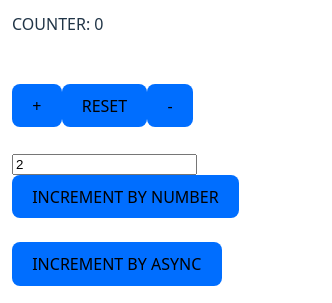
Scenario: Counter Component › resets the counter on RESET button click
This screenshot has width=332, height=303.
Click the button "+" at (37, 106), box [12,84,62,127]
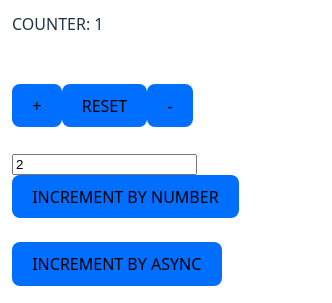
Click the button "RESET" at (104, 106), box [62,84,147,127]
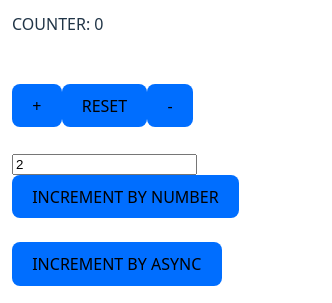
Expected: the text "COUNTER: 0" is shown, [12,13,104,35]
